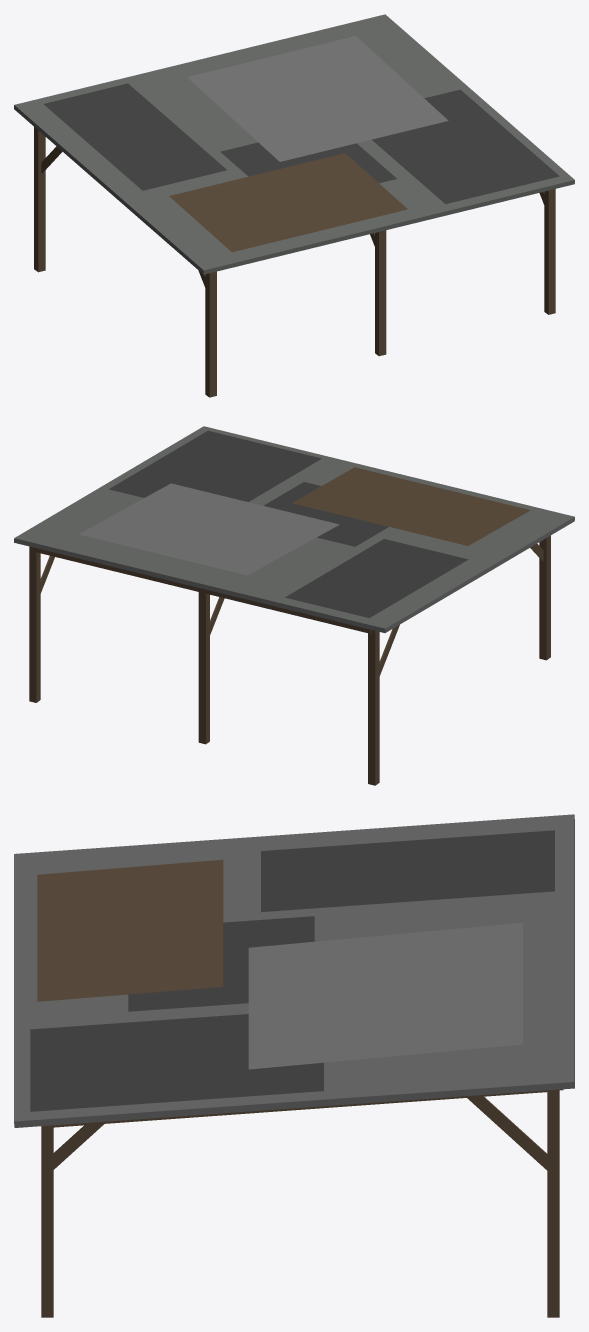
The model's file is SM_shed_01.gltf.
3 renders of one model, top to bottom at view 1: azimuth 30°, elevation 25°; view 2: azimuth 150°, elevation 25°; view 3: azimuth 270°, elevation 25°, orthographic. The views are drawn at different scales.
Parts seen in each view (by area): view 1: SM_shed_01; view 2: SM_shed_01; view 3: SM_shed_01.
Boxes of the visible parts, bbox=[...] form: SM_shed_01: bbox=[14, 14, 574, 397]; SM_shed_01: bbox=[14, 426, 574, 785]; SM_shed_01: bbox=[14, 814, 574, 1317].
Bounding box in the file's own units: 8.76 × 3.76 × 7.76.
Materials: 1 (1 with a texture image).
